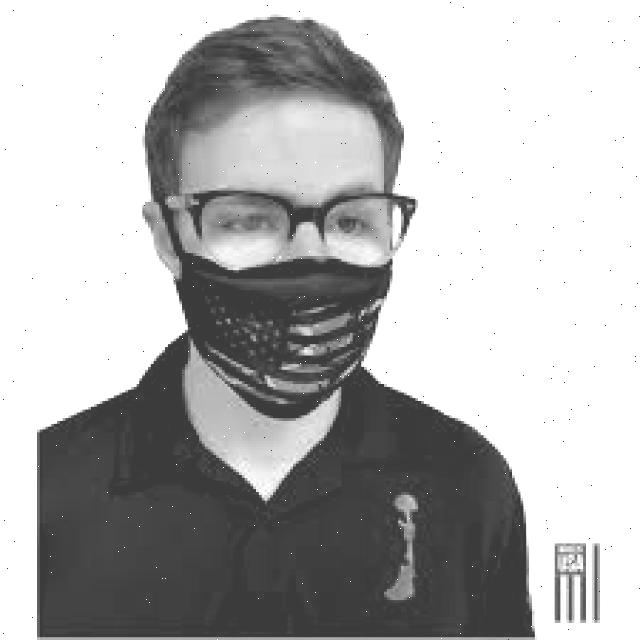fake: (173, 249, 396, 421)
real: (166, 97, 402, 426)
